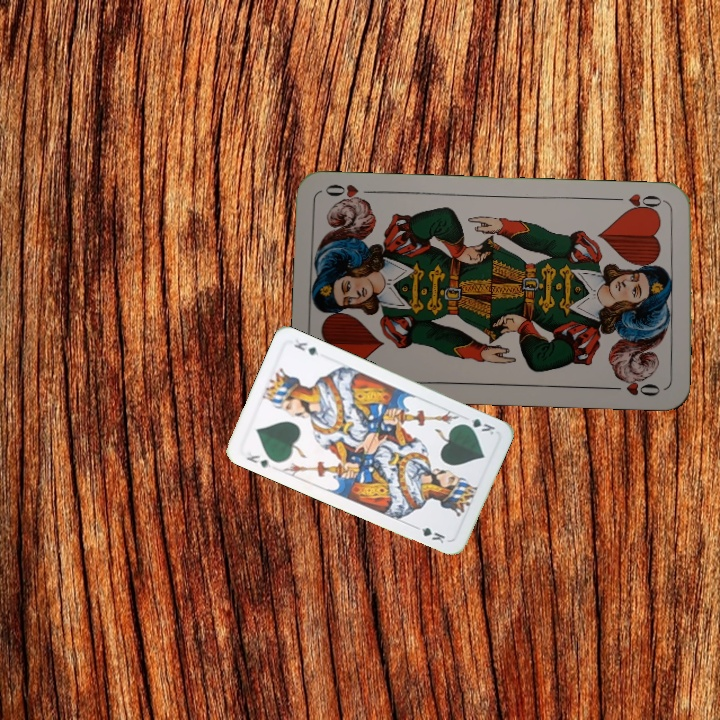GK: (458, 414, 498, 438), (242, 447, 274, 471)
HO: (611, 189, 670, 216)
